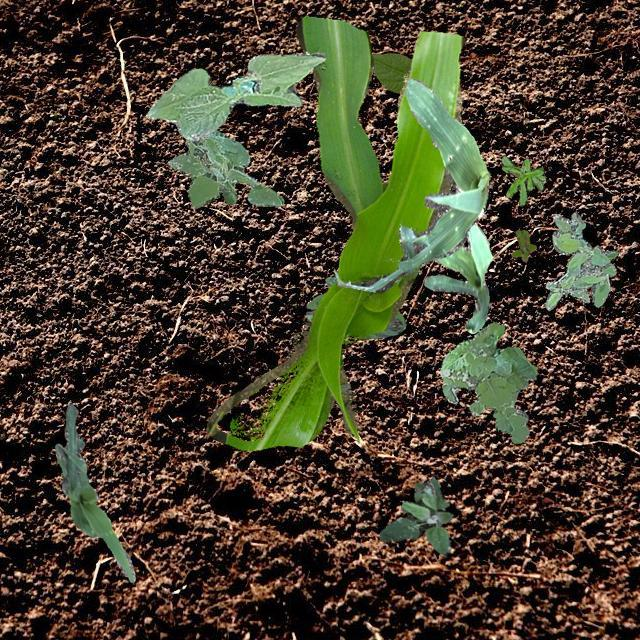crop: (204, 14, 463, 450), (334, 78, 488, 292), (144, 50, 324, 140), (54, 402, 134, 580), (422, 220, 492, 332), (304, 310, 402, 338), (370, 52, 410, 92)
weed: (440, 322, 536, 442), (166, 128, 282, 208), (544, 210, 618, 310), (378, 476, 452, 554), (306, 276, 404, 328), (500, 156, 544, 204), (510, 228, 536, 260)
